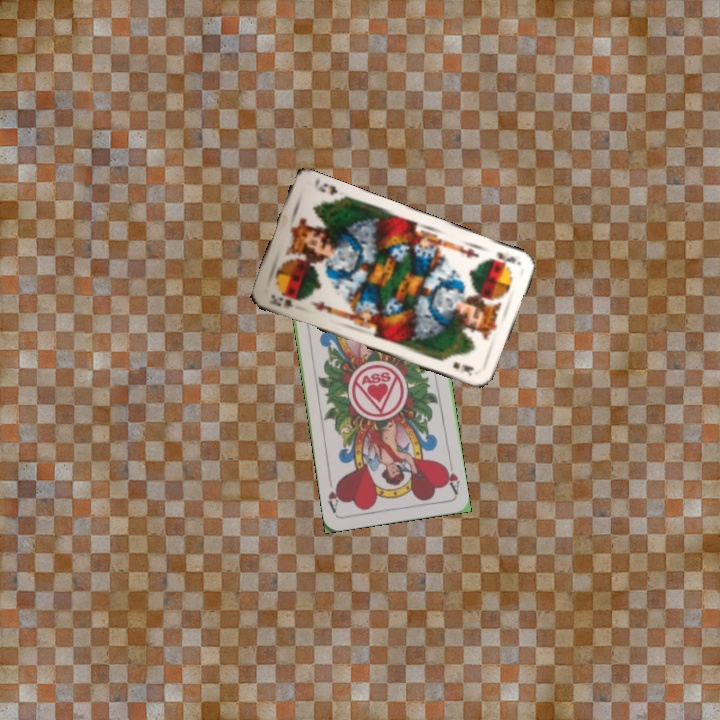HA: (440, 461, 462, 497)
SK: (265, 290, 296, 311), (485, 248, 518, 267)
